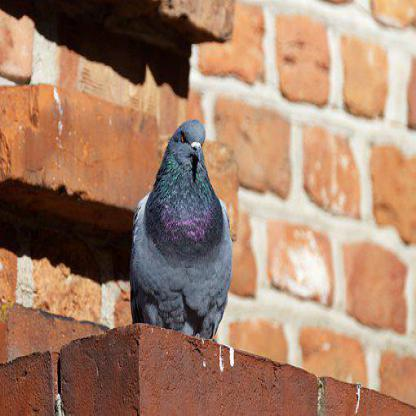Flying Rat: (113, 117, 236, 355)
